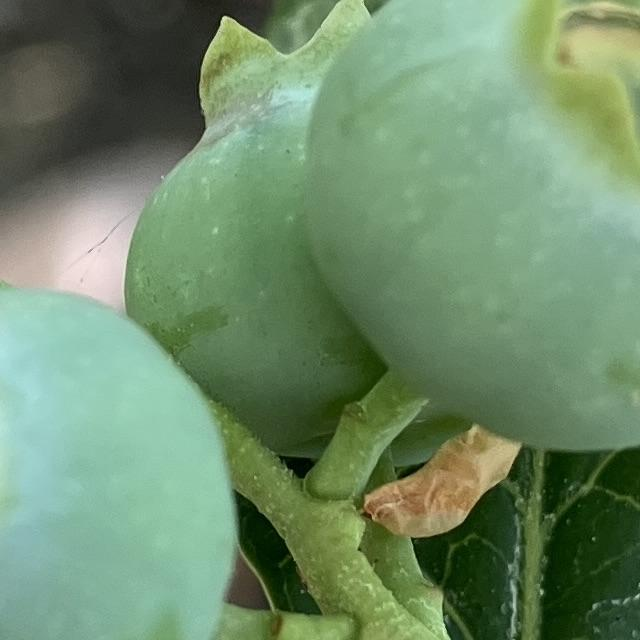Blueberries: (295, 0, 640, 453), (0, 278, 238, 640)
